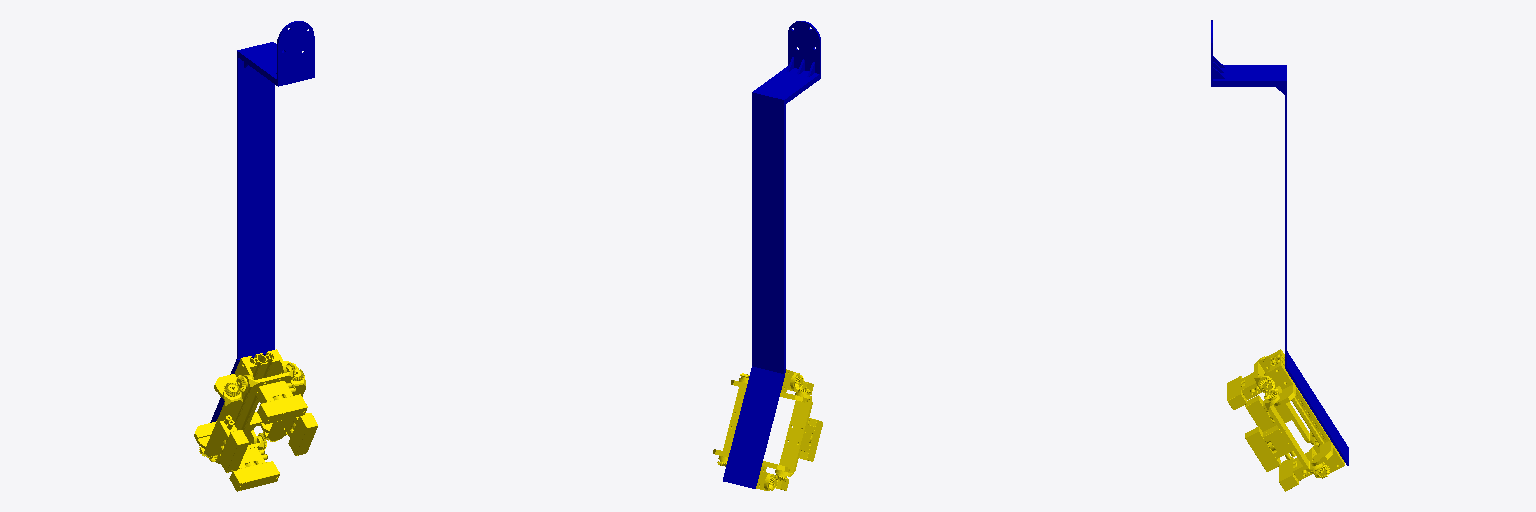
The robot description file, URDF, robot "S20":
<?xml version="1.0" ?>
<!-- =================================================================================== -->
<!-- |    This document was autogenerated by xacro from S20.urdf.xacro                 | -->
<!-- |    EDITING THIS FILE BY HAND IS NOT RECOMMENDED                                 | -->
<!-- =================================================================================== -->
<robot name="S20">
  <material name="black">
    <color rgba="0.0 0.0 0.0 1.0"/>
  </material>
  <material name="blue">
    <color rgba="0.0 0.0 0.8 1.0"/>
  </material>
  <material name="green">
    <color rgba="0.0 0.8 0.0 1.0"/>
  </material>
  <material name="grey">
    <color rgba="0.2 0.2 0.2 1.0"/>
  </material>
  <material name="orange">
    <color rgba="1.0 0.4235294117647059 0.0392156862745098 1.0"/>
  </material>
  <material name="brown">
    <color rgba="0.8705882352941177 0.8117647058823529 0.7647058823529411 1.0"/>
  </material>
  <material name="red">
    <color rgba="0.8 0.0 0.0 1.0"/>
  </material>
  <material name="white">
    <color rgba="1.0 1.0 1.0 1.0"/>
  </material>
  <material name="metal">
    <color rgba="0.768627450980392 0.749019607843137 0.729411764705882 1"/>
  </material>
  <material name="metal_grey">
    <color rgba="0.501960784313725 0.501960784313725 0.501960784313725 1"/>
  </material>
  <material name="metal_white">
    <color rgba="0.866666666666667 0.866666666666667 0.890196078431373 1"/>
  </material>
  <!-- ros_control plugin -->
  <gazebo>
    <plugin filename="libgazebo_ros_control.so" name="gazebo_ros_control">
      <robotSimType>gazebo_ros_control/DefaultRobotHWSim</robotSimType>
      <legacyModeNS>true</legacyModeNS>
    </plugin>
  </gazebo>
  <gazebo reference="elfin_link2">
    <visual name="visual">
      <material>
        <script>
          <uri>file:/[local-path]/scripts/gazebo.material</uri>
          <name>Gazebo/Grey</name>
        </script>
      </material>
    </visual>
  </gazebo>
  <gazebo reference="elfin_link4">
    <visual name="visual">
      <material>
        <script>
          <uri>file:/[local-path]/scripts/gazebo.material</uri>
          <name>Gazebo/Grey</name>
        </script>
      </material>
    </visual>
  </gazebo>
  <transmission name="elfin_joint1_trans">
    <type>transmission_interface/SimpleTransmission</type>
    <joint name="elfin_joint1">
      <hardwareInterface>hardware_interface/PositionJointInterface</hardwareInterface>
    </joint>
    <actuator name="elfin_joint1_motor">
      <mechanicalReduction>1</mechanicalReduction>
    </actuator>
  </transmission>
  <transmission name="elfin_joint2_trans">
    <type>transmission_interface/SimpleTransmission</type>
    <joint name="elfin_joint2">
      <hardwareInterface>hardware_interface/PositionJointInterface</hardwareInterface>
    </joint>
    <actuator name="elfin_joint2_motor">
      <mechanicalReduction>1</mechanicalReduction>
    </actuator>
  </transmission>
  <transmission name="elfin_joint3_trans">
    <type>transmission_interface/SimpleTransmission</type>
    <joint name="elfin_joint3">
      <hardwareInterface>hardware_interface/PositionJointInterface</hardwareInterface>
    </joint>
    <actuator name="elfin_joint3_motor">
      <mechanicalReduction>1</mechanicalReduction>
    </actuator>
  </transmission>
  <transmission name="elfin_joint4_trans">
    <type>transmission_interface/SimpleTransmission</type>
    <joint name="elfin_joint4">
      <hardwareInterface>hardware_interface/PositionJointInterface</hardwareInterface>
    </joint>
    <actuator name="elfin_joint4_motor">
      <mechanicalReduction>1</mechanicalReduction>
    </actuator>
  </transmission>
  <transmission name="elfin_joint5_trans">
    <type>transmission_interface/SimpleTransmission</type>
    <joint name="elfin_joint5">
      <hardwareInterface>hardware_interface/PositionJointInterface</hardwareInterface>
    </joint>
    <actuator name="elfin_joint5_motor">
      <mechanicalReduction>1</mechanicalReduction>
    </actuator>
  </transmission>
  <transmission name="elfin_joint6_trans">
    <type>transmission_interface/SimpleTransmission</type>
    <joint name="elfin_joint6">
      <hardwareInterface>hardware_interface/PositionJointInterface</hardwareInterface>
    </joint>
    <actuator name="elfin_joint6_motor">
      <mechanicalReduction>1</mechanicalReduction>
    </actuator>
  </transmission>
  <link name="world"/>
  <joint name="world_base" type="fixed">
    <origin rpy="0 0 0" xyz="0 0 0"/>
    <parent link="world"/>
    <child link="elfin_base_link"/>
  </joint>
  <link name="elfin_base_link"/>
  <joint name="elfin_base_joint" type="fixed">
    <origin rpy="0 0 0" xyz="0 0 0"/>
    <parent link="elfin_base_link"/>
    <child link="elfin_base"/>
  </joint>
  <link name="elfin_base">
    <inertial>
      <origin rpy="0 0 0" xyz="-0.00131650768656017 3.86349405459754E-05 0.0343213199540785"/>
      <mass value="2.32181468230125"/>
      <inertia ixx="0.00741739022505177" ixy="-9.4225231258528E-05" ixz="-5.45619950886553E-05" iyy="0.00699483778046143" iyz="1.30022773204213E-06" izz="0.0123390065438587"/>
    </inertial>
    <visual>
      <origin rpy="0 0 0" xyz="0 0 0"/>
      <geometry>
        <mesh filename="package://elfin_description/meshes/S20/elfin_base.STL"/>
      </geometry>
      <material name="">
        <color rgba="0.752941176470588 0.752941176470588 0.752941176470588 1"/>
      </material>
    </visual>
    <collision>
      <origin rpy="0 0 0" xyz="0 0 0"/>
      <geometry>
        <mesh filename="package://elfin_description/meshes/S20/elfin_base.STL"/>
      </geometry>
    </collision>
  </link>
  <link name="elfin_link1">
    <inertial>
      <origin rpy="0 0 0" xyz="-1.0792519167212E-07 -0.0224399626110038 0.00175002240516534"/>
      <mass value="6.93455742496729"/>
      <inertia ixx="0.0460589183335357" ixy="5.43718136375216E-07" ixz="2.96738634298801E-07" iyy="0.0375916708812216" iyz="-0.000245581780149179" izz="0.0394268304468804"/>
    </inertial>
    <visual>
      <origin rpy="0 0 0" xyz="0 0 0"/>
      <geometry>
        <mesh filename="package://elfin_description/meshes/S20/elfin_link1.STL"/>
      </geometry>
      <material name="">
        <color rgba="0.898039215686275 0.917647058823529 0.929411764705882 1"/>
      </material>
    </visual>
    <collision>
      <origin rpy="0 0 0" xyz="0 0 0"/>
      <geometry>
        <mesh filename="package://elfin_description/meshes/S20/elfin_link1.STL"/>
      </geometry>
    </collision>
  </link>
  <joint name="elfin_joint1" type="revolute">
    <origin rpy="0 0 0" xyz="0 0 0.171"/>
    <parent link="elfin_base"/>
    <child link="elfin_link1"/>
    <axis xyz="0 0 1"/>
    <limit effort="200" lower="-6.28" upper="6.28" velocity="1.57"/>
  </joint>
  <link name="elfin_link2">
    <inertial>
      <origin rpy="0 0 0" xyz="-0.370229694350317 9.38128437405483E-07 0.000899041883029139"/>
      <mass value="18.8395085758056"/>
      <inertia ixx="0.0687507132351259" ixy="-5.05507420279161E-07" ixz="-6.41343868263508E-05" iyy="0.411200291693132" iyz="-1.80729528146994E-07" izz="0.40138597350588"/>
    </inertial>
    <visual>
      <origin rpy="0 0 0" xyz="0 0 0"/>
      <geometry>
        <mesh filename="package://elfin_description/meshes/S20/elfin_link2.STL"/>
      </geometry>
      <material name="">
        <color rgba="0.752941176470588 0.752941176470588 0.752941176470588 1"/>
      </material>
    </visual>
    <collision>
      <origin rpy="0 0 0" xyz="0 0 0"/>
      <geometry>
        <mesh filename="package://elfin_description/meshes/S20/elfin_link2.STL"/>
      </geometry>
    </collision>
  </link>
  <joint name="elfin_joint2" type="revolute">
    <origin rpy="1.5708 0 0" xyz="0 -0.2295 0"/>
    <parent link="elfin_link1"/>
    <child link="elfin_link2"/>
    <axis xyz="0 0 1"/>
    <limit effort="200" lower="-3.3158" upper="0.1745" velocity="1.57"/>
  </joint>
  <link name="elfin_link3">
    <inertial>
      <origin rpy="0 0 0" xyz="0.310973076601113 -4.7405306624615E-09 0.0109938899740937"/>
      <mass value="7.53508270364931"/>
      <inertia ixx="0.0133872719937165" ixy="1.91460600478011E-07" ixz="0.00152175061957157" iyy="0.11837455186459" iyz="-2.26041817837737E-08" izz="0.116582348081593"/>
    </inertial>
    <visual>
      <origin rpy="0 0 0" xyz="0 0 0"/>
      <geometry>
        <mesh filename="package://elfin_description/meshes/S20/elfin_link3.STL"/>
      </geometry>
      <material name="">
        <color rgba="0.752941176470588 0.752941176470588 0.752941176470588 1"/>
      </material>
    </visual>
    <collision>
      <origin rpy="0 0 0" xyz="0 0 0"/>
      <geometry>
        <mesh filename="package://elfin_description/meshes/S20/elfin_link3.STL"/>
      </geometry>
    </collision>
  </link>
  <joint name="elfin_joint3" type="revolute">
    <origin rpy="0 0 3.1416" xyz="-0.85 0 -0.1885"/>
    <parent link="elfin_link2"/>
    <child link="elfin_link3"/>
    <axis xyz="0 0 1"/>
    <limit effort="200" lower="-2.9319" upper="2.9319" velocity="1.57"/>
  </joint>
  <link name="elfin_link4">
    <inertial>
      <origin rpy="0 0 0" xyz="8.5204157129759E-07 -0.00559612992738279 0.124499710924349"/>
      <mass value="1.26777180180805"/>
      <inertia ixx="0.00300888445161096" ixy="1.64612435809042E-08" ixz="3.62281943568331E-08" iyy="0.00214465218602862" iyz="9.35786831203314E-05" izz="0.00239761638151984"/>
    </inertial>
    <visual>
      <origin rpy="0 0 0" xyz="0 0 0"/>
      <geometry>
        <mesh filename="package://elfin_description/meshes/S20/elfin_link4.STL"/>
      </geometry>
      <material name="">
        <color rgba="0.898039215686275 0.917647058823529 0.929411764705882 1"/>
      </material>
    </visual>
    <collision>
      <origin rpy="0 0 0" xyz="0 0 0"/>
      <geometry>
        <mesh filename="package://elfin_description/meshes/S20/elfin_link4.STL"/>
      </geometry>
    </collision>
  </link>
  <joint name="elfin_joint4" type="revolute">
    <origin rpy="0 0 0" xyz="0.712 0 0"/>
    <parent link="elfin_link3"/>
    <child link="elfin_link4"/>
    <axis xyz="0 0 1"/>
    <limit effort="104" lower="-6.28" upper="6.28" velocity="1.57"/>
  </joint>
  <link name="elfin_link5">
    <inertial>
      <origin rpy="0 0 0" xyz="-1.58900480728974E-06 0.00559613044782842 0.124499711309393"/>
      <mass value="1.26777180180803"/>
      <inertia ixx="0.00300888445161093" ixy="1.64612435696446E-08" ixz="-3.62281943491141E-08" iyy="0.00214465218602857" iyz="-9.35786831203246E-05" izz="0.00239761638151982"/>
    </inertial>
    <visual>
      <origin rpy="0 0 0" xyz="0 0 0"/>
      <geometry>
        <mesh filename="package://elfin_description/meshes/S20/elfin_link5.STL"/>
      </geometry>
      <material name="">
        <color rgba="0.752941176470588 0.752941176470588 0.752941176470588 1"/>
      </material>
    </visual>
    <collision>
      <origin rpy="0 0 0" xyz="0 0 0"/>
      <geometry>
        <mesh filename="package://elfin_description/meshes/S20/elfin_link5.STL"/>
      </geometry>
    </collision>
  </link>
  <joint name="elfin_joint5" type="revolute">
    <origin rpy="-1.5708 0 0" xyz="0 0 0.138"/>
    <parent link="elfin_link4"/>
    <child link="elfin_link5"/>
    <axis xyz="0 0 1"/>
    <limit effort="34" lower="-6.28" upper="6.28" velocity="1.57"/>
  </joint>
  <link name="elfin_link6">
    <inertial>
      <origin rpy="0 0 0" xyz="-7.47115137089693E-07 0.000102435646244473 0.0904183015693256"/>
      <mass value="0.468079508708449"/>
      <inertia ixx="0.000412770805513074" ixy="1.60636639637837E-08" ixz="-3.02343967687703E-08" iyy="0.000415704740293176" iyz="1.46595766333508E-07" izz="0.000530952415351683"/>
    </inertial>
    <visual>
      <origin rpy="0 0 0" xyz="0 0 0"/>
      <geometry>
        <mesh filename="package://elfin_description/meshes/S20/elfin_link6.STL"/>
      </geometry>
      <material name="">
        <color rgba="0.752941176470588 0.752941176470588 0.752941176470588 1"/>
      </material>
    </visual>
    <collision>
      <origin rpy="0 0 0" xyz="0 0 0"/>
      <geometry>
        <mesh filename="package://elfin_description/meshes/S20/elfin_link6.STL"/>
      </geometry>
    </collision>
  </link>
  <joint name="elfin_joint6" type="revolute">
    <origin rpy="1.5708 0 0" xyz="0 0 0.138"/>
    <parent link="elfin_link5"/>
    <child link="elfin_link6"/>
    <axis xyz="0 0 1"/>
    <limit effort="34" lower="-6.28" upper="6.28" velocity="1.57"/>
  </joint>
  <link name="elfin_end_link">
  </link>
  <joint name="elfin_end_joint" type="fixed">
    <origin rpy="0 0 3.1416" xyz="0 0 0.1257"/>
    <parent link="elfin_link6"/>
    <child link="elfin_end_link"/>
  </joint>
  <link name="ee_link">
    <visual>
      <origin rpy="0 0 0" xyz="0 0 0"/>
      <geometry>
        <mesh filename="package://elfin_description/meshes/S20/ee_link.STL"/>
      </geometry>
      <material name="">
        <color rgba="0 0 0.8 1"/>
      </material>
    </visual>
    <collision>
      <origin rpy="0 0 0" xyz="0 0 0"/>
      <geometry>
        <mesh filename="package://elfin_description/meshes/S20/ee_link.STL"/>
      </geometry>
    </collision>
  </link>
  <joint name="ee_link_joint" type="fixed">
    <origin rpy="-1.5707 0 1.5707" xyz="0.035 -0.155 0"/>
    <parent link="elfin_end_link"/>
    <child link="ee_link"/>
  </joint>
  <link name="gripper_link0">
    <visual>
      <origin rpy="0 0 0" xyz="0 0 0"/>
      <geometry>
        <mesh filename="package://elfin_description/meshes/S20/gripper_link.STL"/>
      </geometry>
      <material name="">
        <color rgba="0 0 0.8 1"/>
      </material>
    </visual>
    <collision>
      <origin rpy="0 0 0" xyz="0 0 0"/>
      <geometry>
        <mesh filename="package://elfin_description/meshes/S20/gripper_link.STL"/>
      </geometry>
    </collision>
  </link>
  <joint name="gripper_link_joint0" type="fixed">
    <origin rpy="1.5707 0 0" xyz="-0.1 0.124 0"/>
    <parent link="ee_link"/>
    <child link="gripper_link0"/>
  </joint>
  <link name="gripper_link1">
    <visual>
      <origin rpy="0 0 0" xyz="0 0 0"/>
      <geometry>
        <mesh filename="package://elfin_description/meshes/S20/gripper_link.STL"/>
      </geometry>
      <material name="">
        <color rgba="0 0 0.8 1"/>
      </material>
    </visual>
    <collision>
      <origin rpy="0 0 0" xyz="0 0 0"/>
      <geometry>
        <mesh filename="package://elfin_description/meshes/S20/gripper_link.STL"/>
      </geometry>
    </collision>
  </link>
  <joint name="gripper_link_joint1" type="fixed">
    <origin rpy="0 0 0" xyz="-0.1 0 0"/>
    <parent link="gripper_link0"/>
    <child link="gripper_link1"/>
  </joint>
  <link name="gripper_link2">
    <visual>
      <origin rpy="0 0 0" xyz="0 0 0"/>
      <geometry>
        <mesh filename="package://elfin_description/meshes/S20/gripper_link.STL"/>
      </geometry>
      <material name="">
        <color rgba="0 0 0.8 1"/>
      </material>
    </visual>
    <collision>
      <origin rpy="0 0 0" xyz="0 0 0"/>
      <geometry>
        <mesh filename="package://elfin_description/meshes/S20/gripper_link.STL"/>
      </geometry>
    </collision>
  </link>
  <joint name="gripper_link_joint2" type="fixed">
    <origin rpy="0 0 0" xyz="-0.1 0 0"/>
    <parent link="gripper_link1"/>
    <child link="gripper_link2"/>
  </joint>
  <link name="gripper_link3">
    <visual>
      <origin rpy="0 0 0" xyz="0 0 0"/>
      <geometry>
        <mesh filename="package://elfin_description/meshes/S20/gripper_link.STL"/>
      </geometry>
      <material name="">
        <color rgba="0 0 0.8 1"/>
      </material>
    </visual>
    <collision>
      <origin rpy="0 0 0" xyz="0 0 0"/>
      <geometry>
        <mesh filename="package://elfin_description/meshes/S20/gripper_link.STL"/>
      </geometry>
    </collision>
  </link>
  <joint name="gripper_link_joint3" type="fixed">
    <origin rpy="0 0 0" xyz="-0.1 0 0"/>
    <parent link="gripper_link2"/>
    <child link="gripper_link3"/>
  </joint>
  <link name="gripper_link_ee1">
    <visual>
      <origin rpy="0 0 0" xyz="0 0 0"/>
      <geometry>
        <mesh filename="package://elfin_description/meshes/S20/gripper_link.STL"/>
      </geometry>
      <material name="">
        <color rgba="0 0 0.8 1"/>
      </material>
    </visual>
    <collision>
      <origin rpy="0 0 0" xyz="0 0 0"/>
      <geometry>
        <mesh filename="package://elfin_description/meshes/S20/gripper_link.STL"/>
      </geometry>
    </collision>
  </link>
  <joint name="gripper_link_joint_ee1" type="fixed">
    <origin rpy="0 -0.5235 0" xyz="-0.0866 0 -0.05"/>
    <parent link="gripper_link3"/>
    <child link="gripper_link_ee1"/>
  </joint>
  <link name="gripper_link_ee2">
    <visual>
      <origin rpy="0 0 0" xyz="0 0 0"/>
      <geometry>
        <mesh filename="package://elfin_description/meshes/S20/gripper_link.STL"/>
      </geometry>
      <material name="">
        <color rgba="0 0 0.8 1"/>
      </material>
    </visual>
    <collision>
      <origin rpy="0 0 0" xyz="0 0 0"/>
      <geometry>
        <mesh filename="package://elfin_description/meshes/S20/gripper_link.STL"/>
      </geometry>
    </collision>
  </link>
  <joint name="gripper_link_joint_ee2" type="fixed">
    <origin rpy="0 0 0" xyz="-0.1 0 0"/>
    <parent link="gripper_link_ee1"/>
    <child link="gripper_link_ee2"/>
  </joint>
  <link name="needle_gripper">
    <visual>
      <origin rpy="0 0 0" xyz="0 0 0"/>
      <geometry>
        <mesh filename="package://elfin_description/meshes/S20/needle_gripper.STL"/>
      </geometry>
      <material name="">
        <color rgba="1.0 0.92 0.016 1"/>
      </material>
    </visual>
    <collision>
      <origin rpy="0 0 0" xyz="0 0 0"/>
      <geometry>
        <mesh filename="package://elfin_description/meshes/S20/needle_gripper.STL"/>
      </geometry>
    </collision>
  </link>
  <joint name="gripper_joint" type="fixed">
    <origin rpy="-1.5708 0 0" xyz="0.106 0.0305 0.09"/>
    <parent link="gripper_link_ee2"/>
    <child link="needle_gripper"/>
  </joint>
</robot>

--- What the picture shows (computed from the rendered views, not written in the file) ---
The picture shows the robot from 3 angles, left to right: view 1: azimuth 30°, elevation 25°; view 2: azimuth 150°, elevation 25°; view 3: azimuth 270°, elevation 25°; orthographic projection.
Robot: S20 — 18 links, 17 joints (6 revolute, 11 fixed); root link world; default pose: all joints at 0.
Visible links, largest first — view 1: needle_gripper, ee_link, gripper_link0, gripper_link2, gripper_link1, gripper_link3; view 2: ee_link, needle_gripper, gripper_link_ee2, gripper_link_ee1, gripper_link1, gripper_link0, gripper_link2, gripper_link3; view 3: needle_gripper, ee_link, gripper_link_ee2, gripper_link_ee1.
Boxes of the visible links, left/top/right/bottom form: needle_gripper: left=194, top=349, right=317, bottom=491; ee_link: left=237, top=21, right=314, bottom=117; gripper_link0: left=237, top=109, right=274, bottom=177; gripper_link2: left=237, top=230, right=274, bottom=298; gripper_link1: left=237, top=169, right=274, bottom=238; gripper_link3: left=237, top=290, right=274, bottom=358; ee_link: left=752, top=21, right=820, bottom=158; needle_gripper: left=713, top=369, right=822, bottom=490; gripper_link_ee2: left=723, top=424, right=769, bottom=488; gripper_link_ee1: left=737, top=366, right=784, bottom=431; gripper_link1: left=752, top=205, right=785, bottom=266; gripper_link0: left=752, top=152, right=785, bottom=212; gripper_link2: left=752, top=259, right=785, bottom=319; gripper_link3: left=752, top=313, right=785, bottom=373; needle_gripper: left=1227, top=349, right=1344, bottom=491; ee_link: left=1211, top=20, right=1286, bottom=142; gripper_link_ee2: left=1317, top=400, right=1348, bottom=465; gripper_link_ee1: left=1285, top=351, right=1317, bottom=417.
Size in the robot's own frame: 0.14 by 0.224 by 0.8184 metres.
8 mesh visuals loaded from 10 distinct referenced files (3 binary STL); not drawn: 7 (reference not matched to a file when rendering).